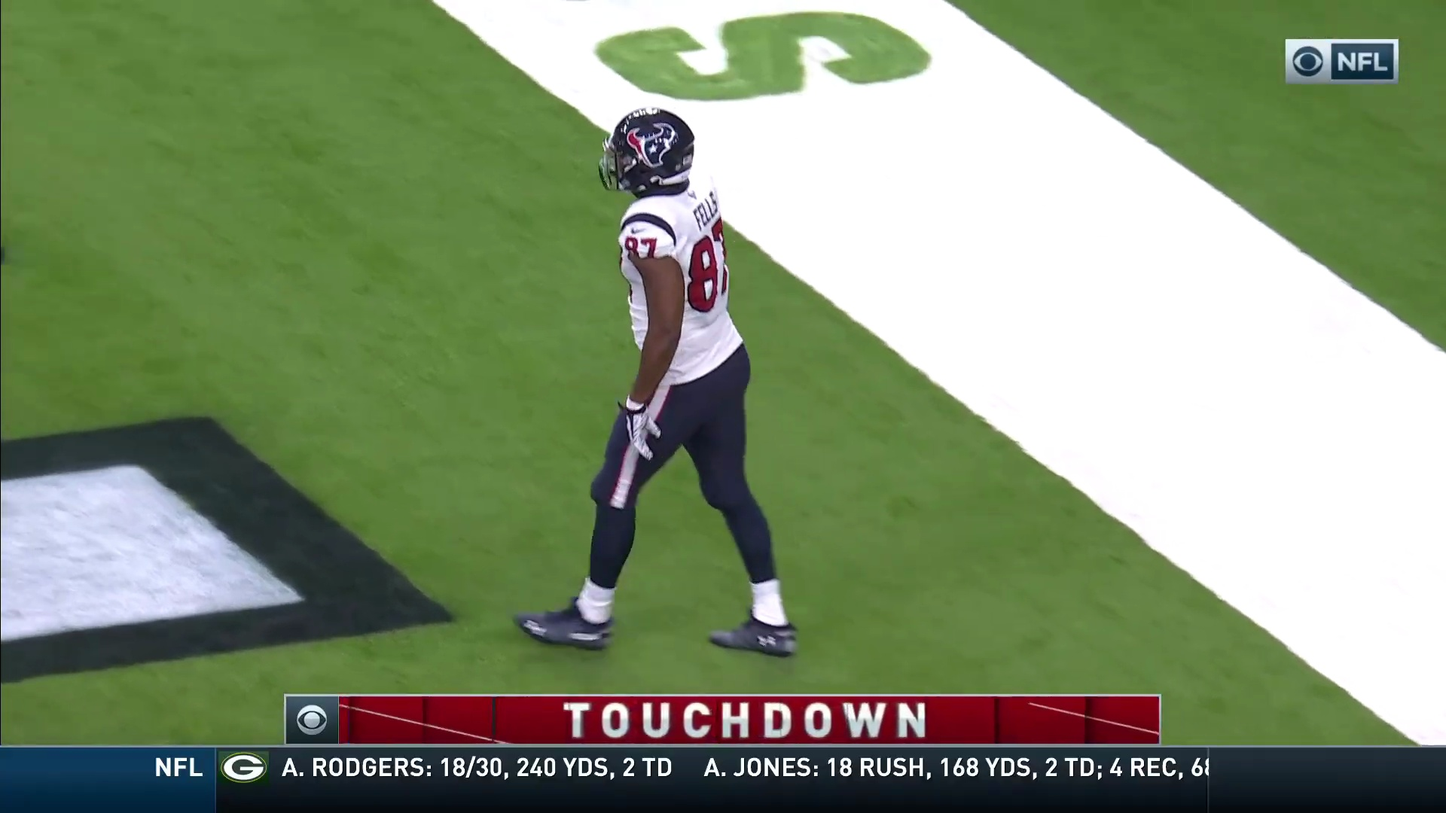Player: (610, 127, 751, 576)
